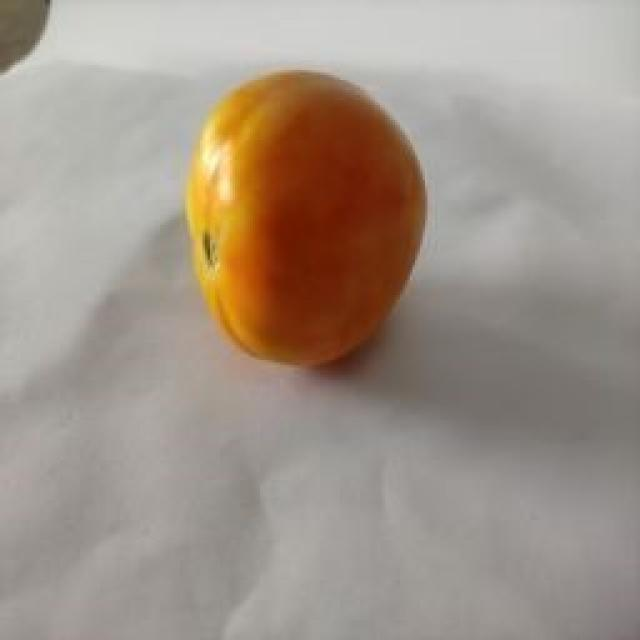unripe: (160, 112, 435, 368)
